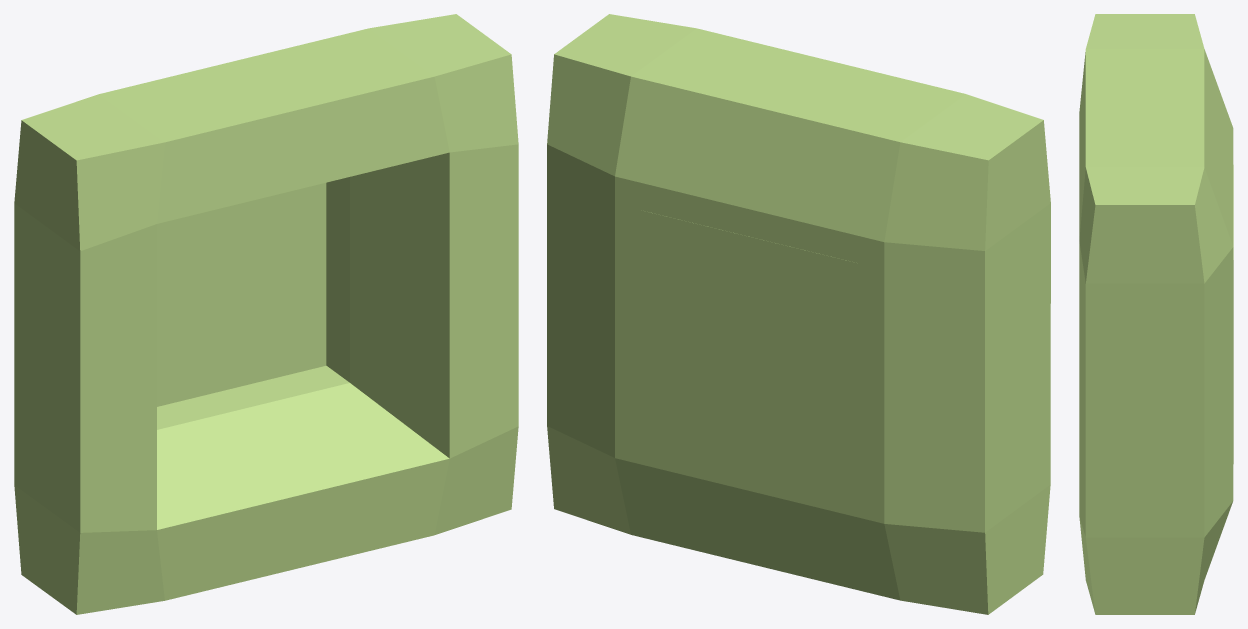
File: место для костей на поле.fbx
The picture shows the model from 3 angles, left to right: view 1: azimuth 30°, elevation 25°; view 2: azimuth 150°, elevation 25°; view 3: azimuth 270°, elevation 25°; orthographic projection. The views are drawn at different scales.
Parts seen in each view (by area): view 1: Cube; view 2: Cube; view 3: Cube.
Part boxes in pixels (<box>): Cube: <box>14,14,518,614</box>; Cube: <box>547,14,1050,614</box>; Cube: <box>1079,14,1233,614</box>.
Bounding box in the file's own units: 195 × 195 × 66.1.
